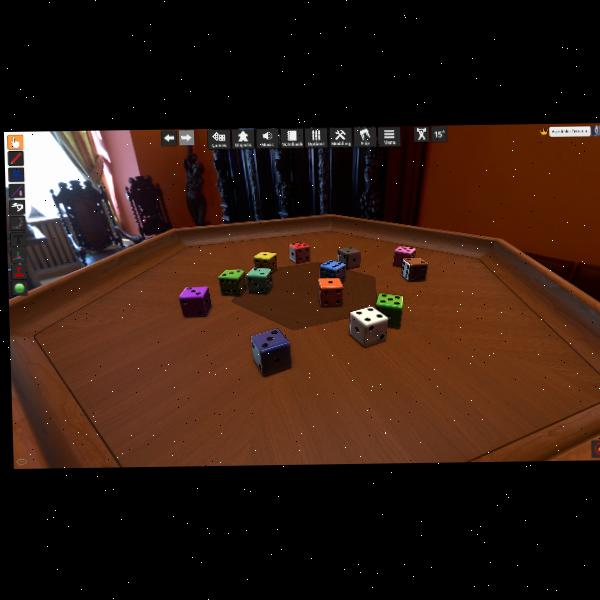d6: (250, 326, 293, 376), (349, 305, 389, 346), (375, 292, 403, 329), (179, 286, 211, 317), (219, 268, 246, 297), (246, 266, 273, 294), (400, 256, 428, 282), (317, 277, 342, 306), (319, 259, 345, 283), (337, 245, 361, 269), (393, 245, 417, 267), (253, 250, 277, 272), (289, 241, 310, 262)
